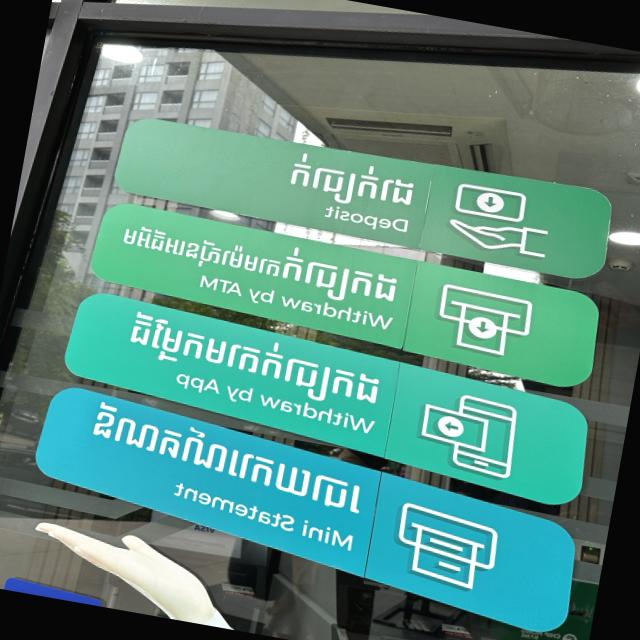Yolov11kh: (75, 394, 368, 529), (119, 300, 389, 421), (113, 210, 409, 314), (277, 146, 426, 214)
